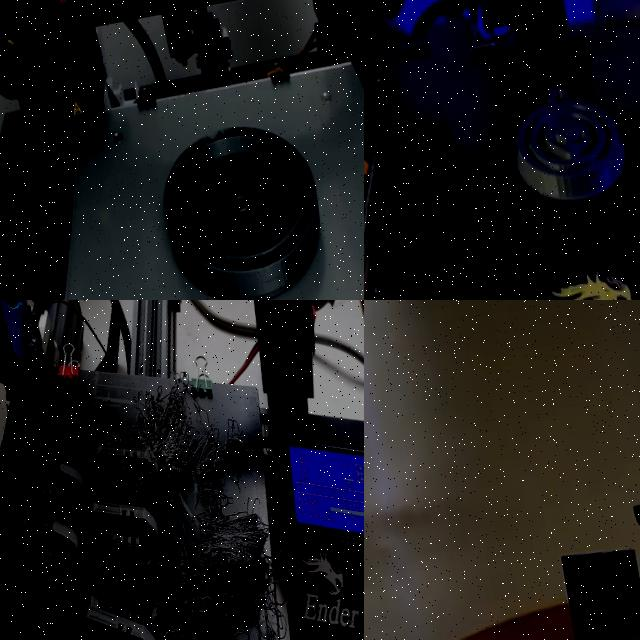spaghetti: (72, 360, 268, 522), (176, 498, 272, 640)
